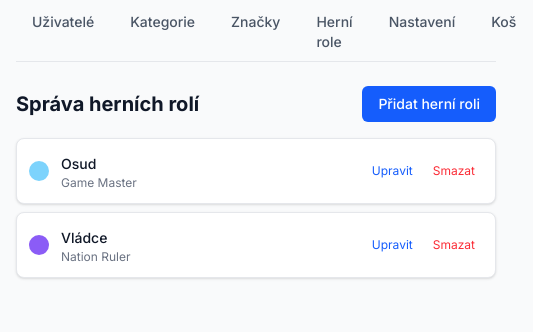
GameRoleManagement › shows error when delete fails
Expected: the text "Osud" is shown, [61, 155, 96, 172]
Click the button "Smazat" in the row of "Game Master" at (454, 171), box [425, 159, 483, 183]
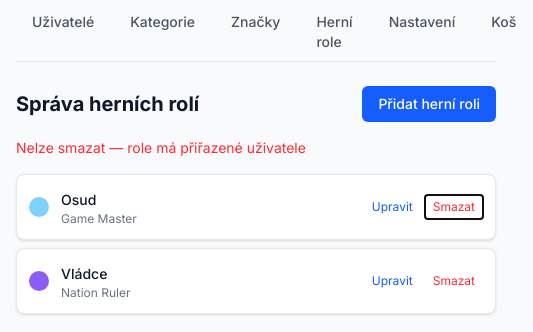
Expected: the text "Nelze smazat — role má přiřazené uživatele" is shown, [16, 139, 306, 156]
